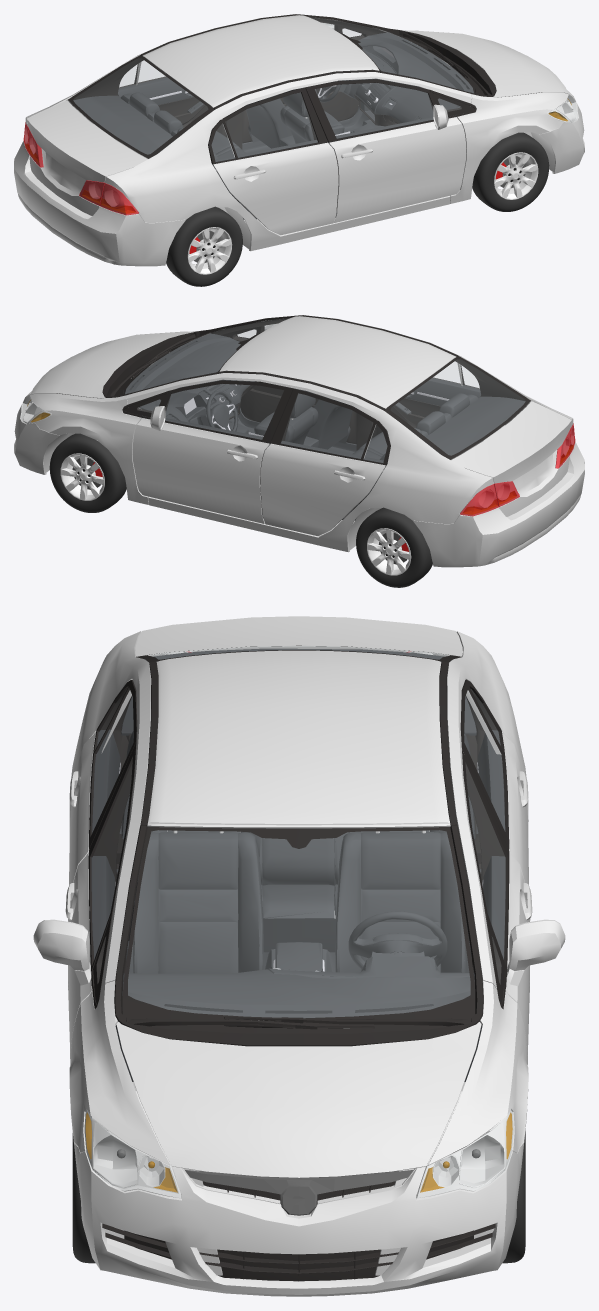
File: SEDAN12.obj
The picture shows the model from 3 angles, top to bottom: view 1: azimuth 30°, elevation 25°; view 2: azimuth 150°, elevation 25°; view 3: azimuth 270°, elevation 25°; orthographic projection. The views are drawn at different scales.
Parts seen in each view (by area): view 1: 12; view 2: 12; view 3: 12.
Part boxes in pixels (x1,y1,x2,y2): 12: (14, 14, 584, 286); 12: (14, 315, 584, 587); 12: (33, 616, 565, 1296).
Bounding box in the file's own units: 4.51 × 1.44 × 2.02.
